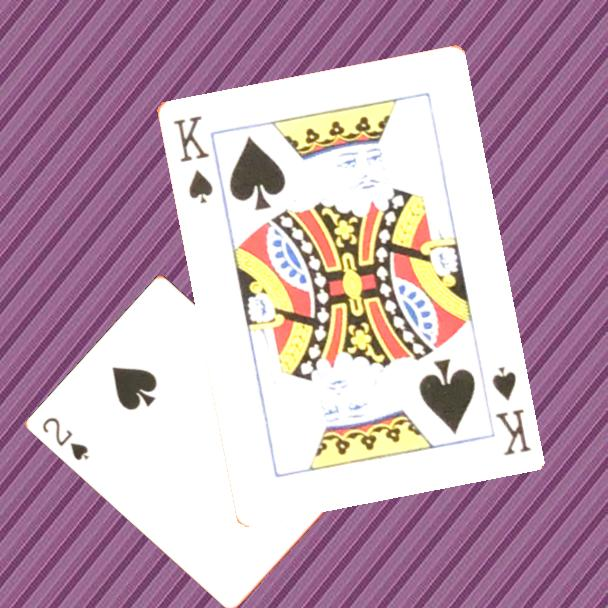s02: (39, 414, 92, 464)
s13: (488, 363, 534, 458), (169, 112, 215, 206)
